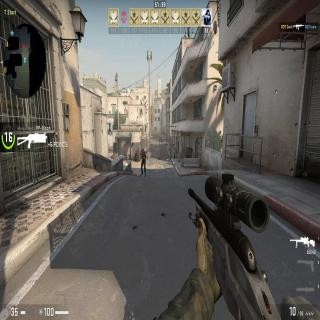T-Body: (140, 148, 147, 178)
T-Head: (142, 148, 144, 152)
